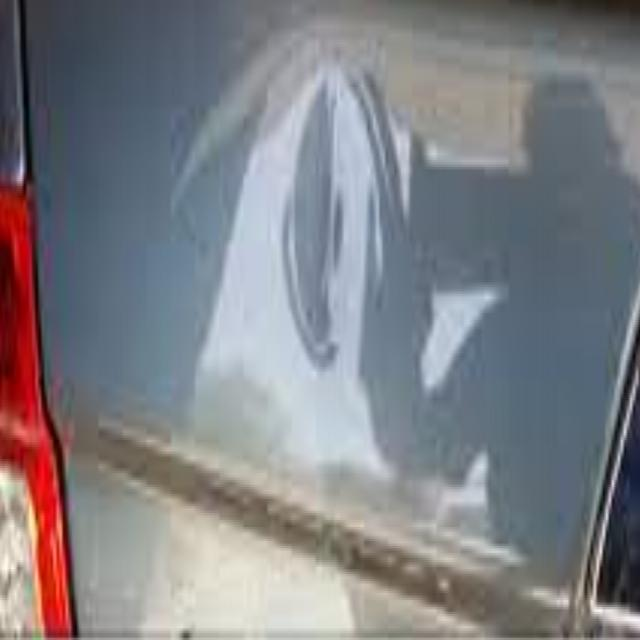dents: (280, 77, 372, 371)
